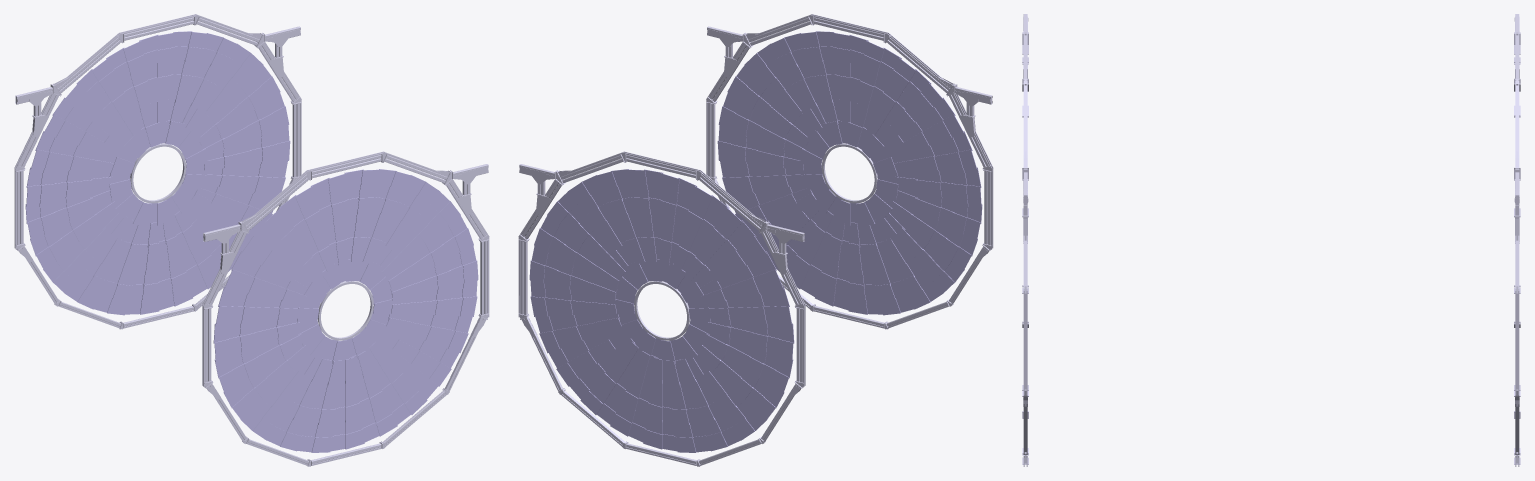
Rendered from TGC2.gltf.
3 renders of one model, left to right at view 1: azimuth 30°, elevation 25°; view 2: azimuth 150°, elevation 25°; view 3: azimuth 270°, elevation 25°, orthographic. The views are drawn at different scales.
Parts seen in each view (by area): view 1: _04510DB8, _2FBBEBA8; view 2: _04510DB8, _2FBBEBA8; view 3: _2FBBEBA8.
Boxes of the visible parts, x1=… form: _04510DB8: x1=25, y1=31, x2=478, y2=452; _2FBBEBA8: x1=14, y1=14, x2=489, y2=466; _04510DB8: x1=529, y1=31, x2=982, y2=452; _2FBBEBA8: x1=518, y1=14, x2=993, y2=466; _2FBBEBA8: x1=1022, y1=14, x2=1520, y2=466.
Size of the model in its own units: 25.91 by 25.65 by 29.87.
